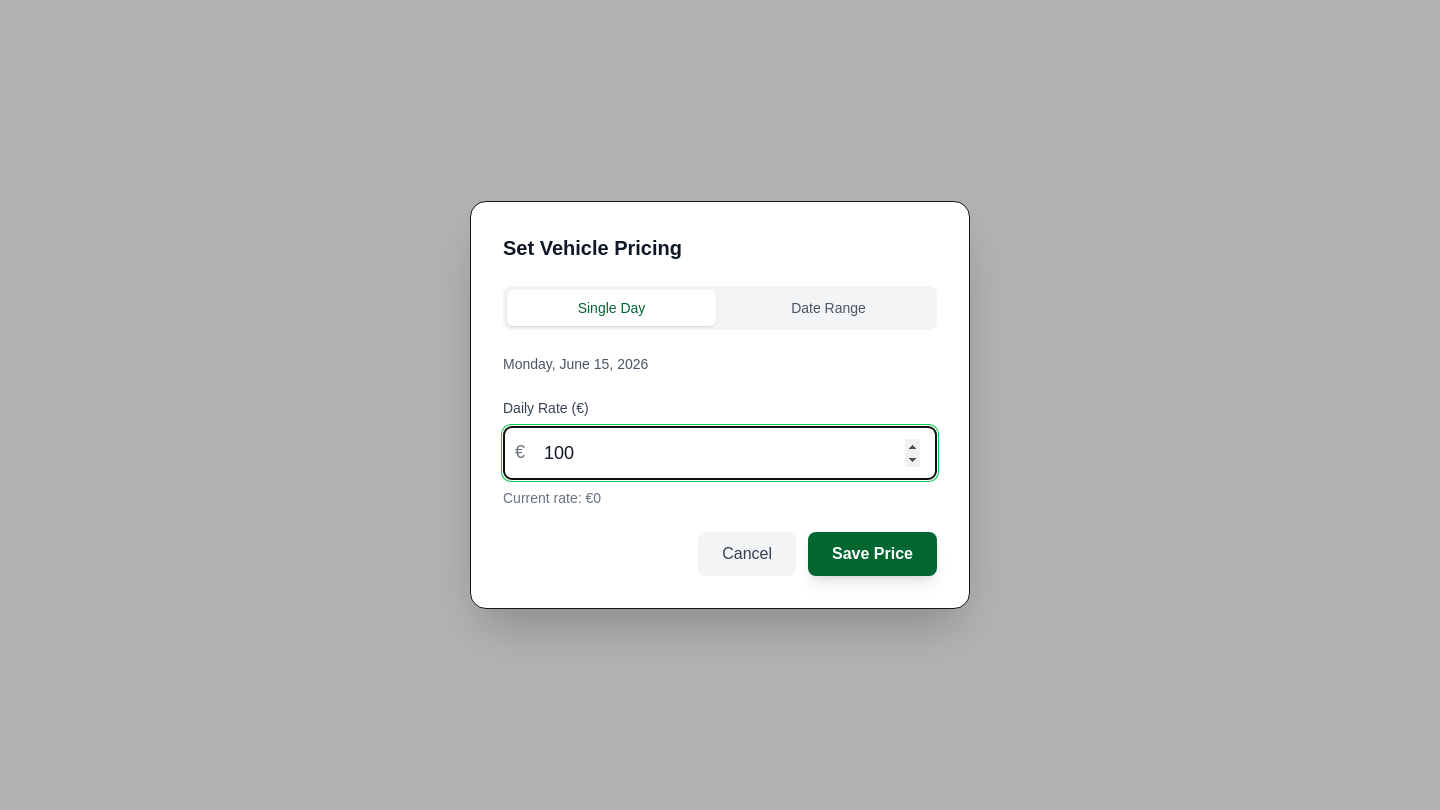
Test case: PriceEditModal Component › Date Range Mode › should calculate total revenue correctly
// Switch to Date Range mode
Click the button "Date Range" at [828, 308], box [724,290,933,326]
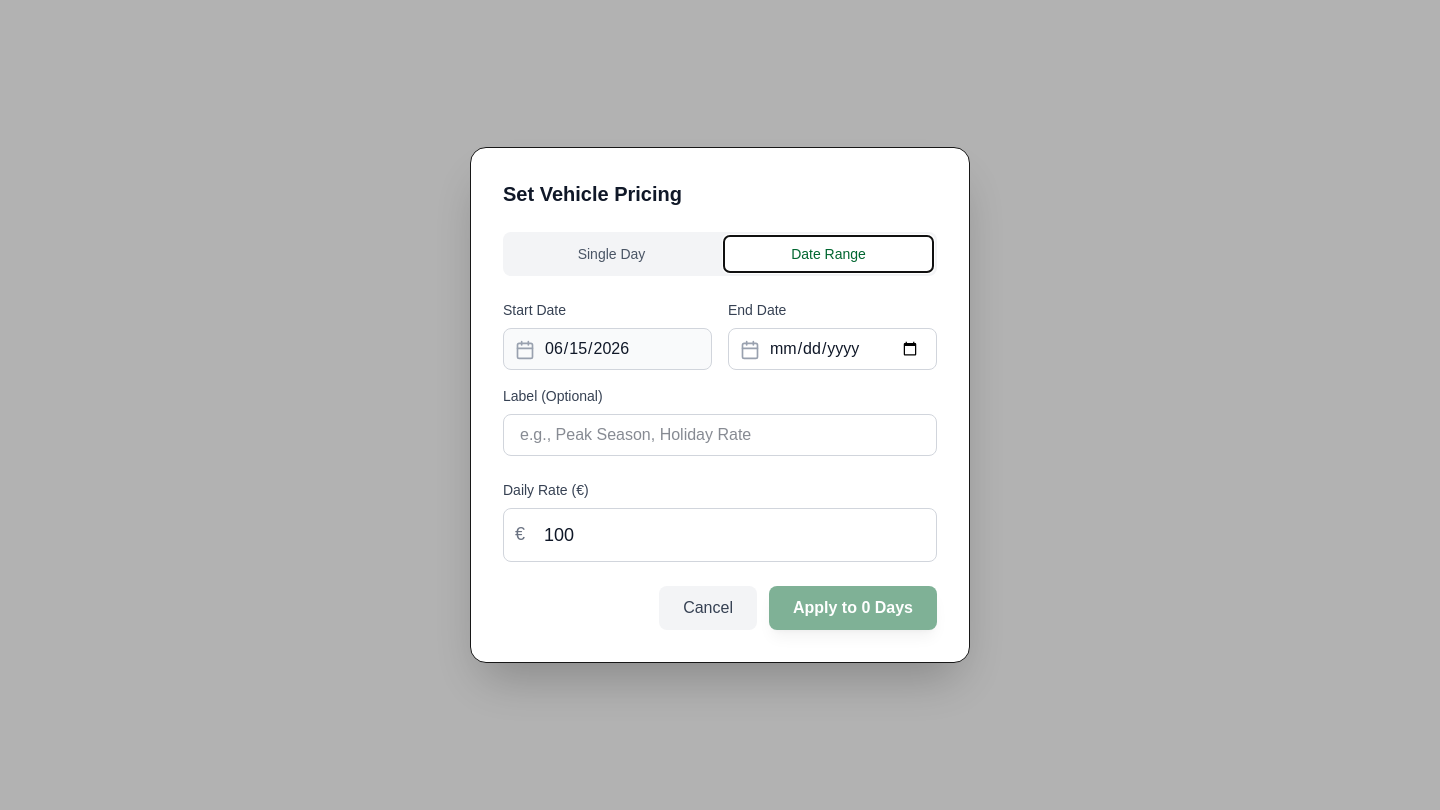
Type "2026-06-20" into the date field below "End Date" at [832, 349], box [728,328,937,370]
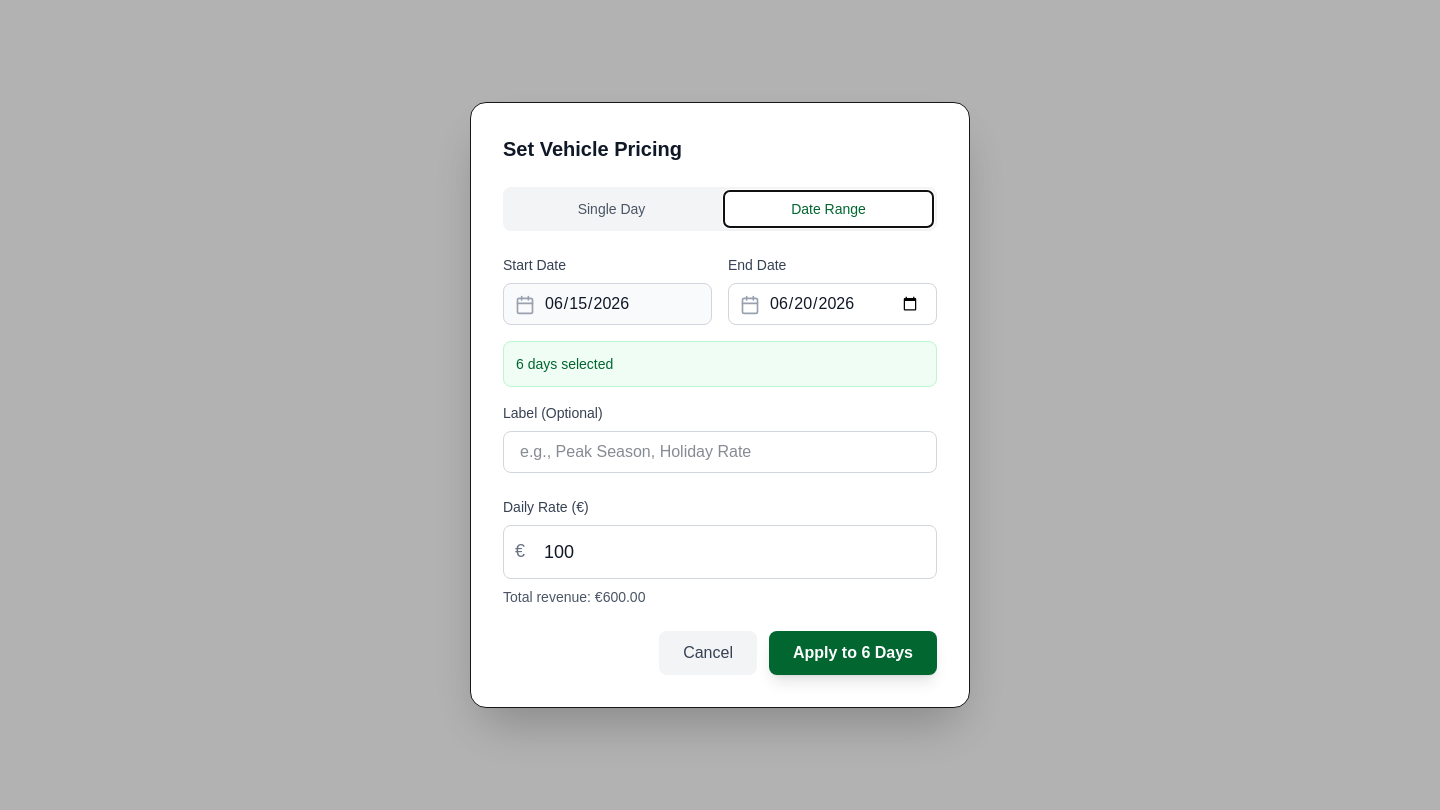
Expected: the text "Total revenue: €600.00" is shown, [503,589,646,605]
